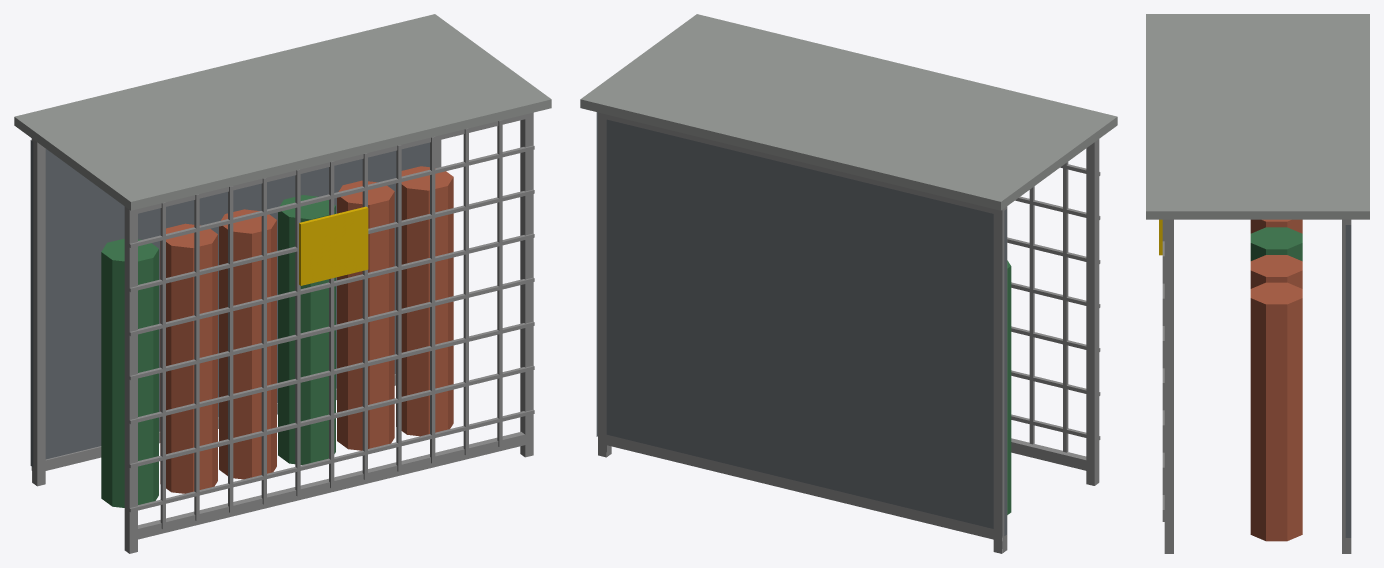
Rendered from industrial.yard.gascage.glb.
3 views of the same model, side by side, from view 1: azimuth 30°, elevation 25°; view 2: azimuth 150°, elevation 25°; view 3: azimuth 270°, elevation 25° (orthographic). The views are drawn at different scales.
Visible parts, largest first — view 1: main__paint_999, main__steel_999, main__paint_b64, main__paint_777, main__paint_475, main__paint_eb0; view 2: main__paint_777, main__steel_999, main__paint_999, main__paint_475; view 3: main__steel_999, main__paint_b64, main__paint_999, main__paint_777, main__paint_475.
Part boxes in pixels (x1=…): main__paint_999: x1=31, y1=112, x2=534, y2=553; main__steel_999: x1=14, y1=14, x2=551, y2=210; main__paint_b64: x1=160, y1=166, x2=453, y2=493; main__paint_777: x1=30, y1=140, x2=429, y2=467; main__paint_475: x1=101, y1=195, x2=335, y2=507; main__paint_eb0: x1=299, y1=206, x2=368, y2=285; main__paint_777: x1=596, y1=112, x2=1006, y2=535; main__steel_999: x1=580, y1=14, x2=1117, y2=210; main__paint_999: x1=598, y1=112, x2=1100, y2=553; main__paint_475: x1=1007, y1=260, x2=1011, y2=514; main__steel_999: x1=1146, y1=14, x2=1369, y2=219; main__paint_b64: x1=1250, y1=219, x2=1302, y2=541; main__paint_999: x1=1162, y1=219, x2=1351, y2=553; main__paint_777: x1=1345, y1=225, x2=1351, y2=537; main__paint_475: x1=1250, y1=227, x2=1302, y2=261.
Bounding box in the file's own units: 2.5 × 2.05 × 1.2.
